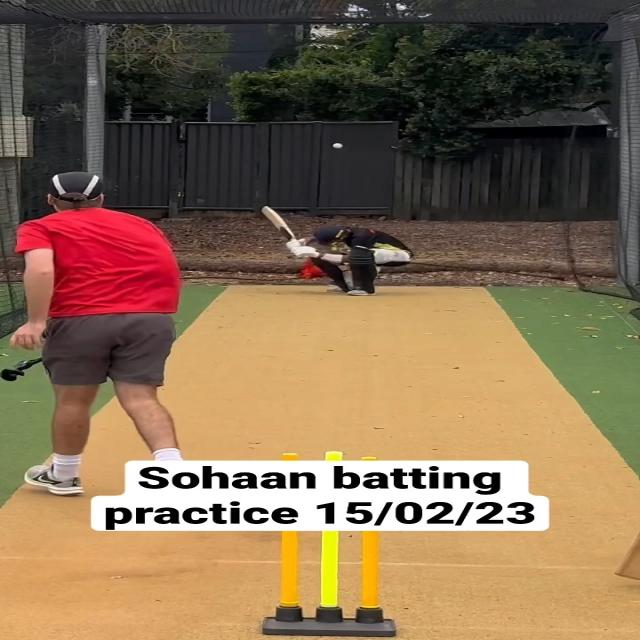ball: (332, 142, 344, 150)
stump: (261, 531, 396, 637)
